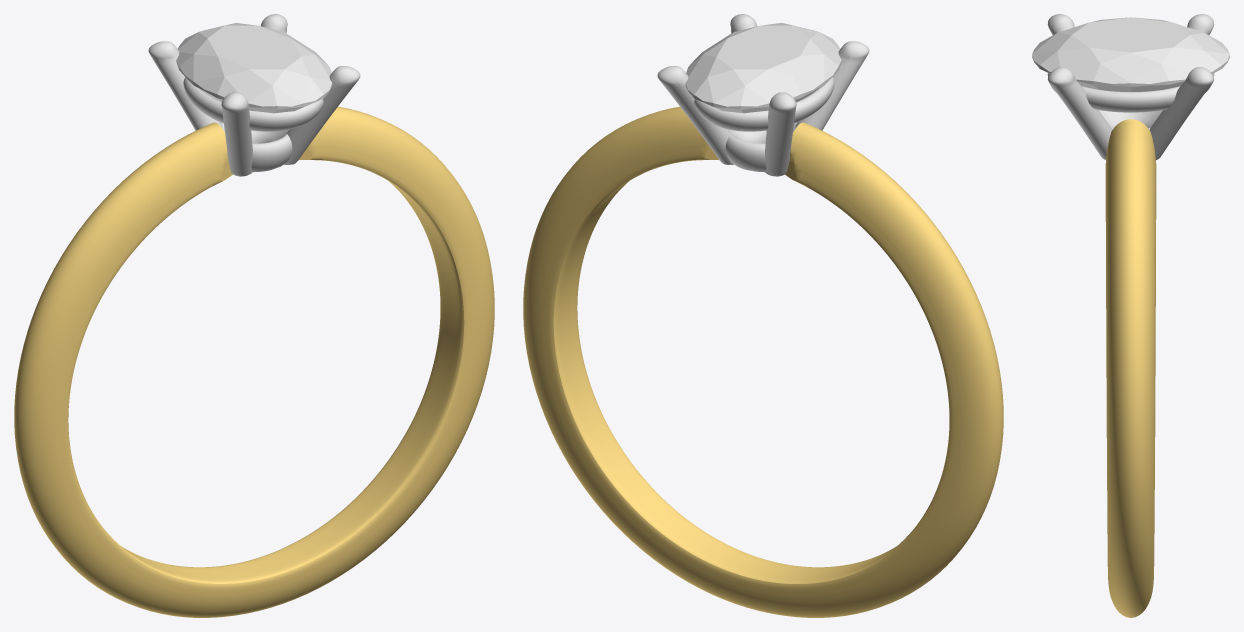
The model's file is ChrisRohrs_StraightBand.glb.
3 views of the same model, side by side, from view 1: azimuth 30°, elevation 25°; view 2: azimuth 150°, elevation 25°; view 3: azimuth 270°, elevation 25° (orthographic).
Parts seen in each view (by area): view 1: Chris YG straight for 3d model, Chris dia for 3d model, Chris PT for 3d model; view 2: Chris YG straight for 3d model, Chris dia for 3d model, Chris PT for 3d model; view 3: Chris YG straight for 3d model, Chris dia for 3d model, Chris PT for 3d model.
Part boxes in pixels (x1,y1,x2,y2): Chris YG straight for 3d model: (14, 106, 494, 617); Chris dia for 3d model: (176, 22, 332, 113); Chris PT for 3d model: (148, 14, 360, 176); Chris YG straight for 3d model: (523, 106, 1003, 617); Chris dia for 3d model: (685, 22, 841, 113); Chris PT for 3d model: (657, 14, 869, 176); Chris YG straight for 3d model: (1105, 119, 1156, 617); Chris dia for 3d model: (1032, 17, 1229, 91); Chris PT for 3d model: (1047, 14, 1214, 159).
Bounding box in the file's own units: 21.54 × 24.3 × 7.8.
